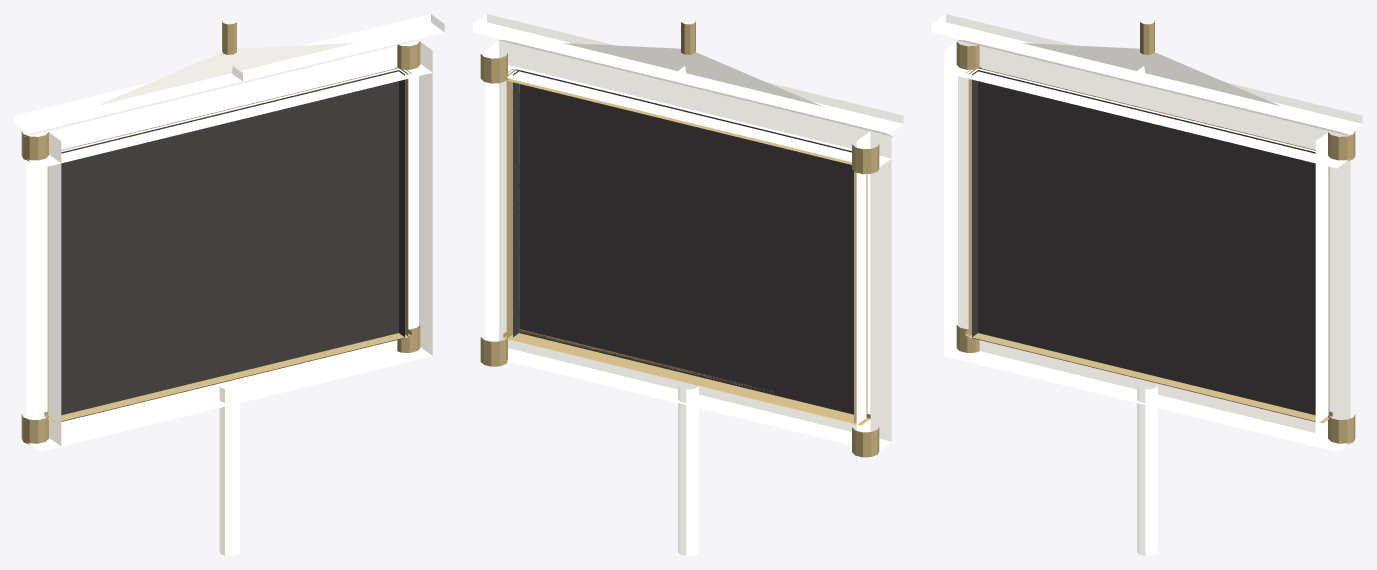
Rendered from board-palace.glb.
The picture shows the model from 3 angles, left to right: view 1: azimuth 30°, elevation 25°; view 2: azimuth 150°, elevation 25°; view 3: azimuth 330°, elevation 25°; orthographic projection.
Parts seen in each view (by area): view 1: plate, frame, brass; view 2: plate, frame, brass; view 3: plate, frame, brass.
Boxes of the visible parts, x1=… form: plate: x1=61, y1=70, x2=404, y2=421; frame: x1=14, y1=14, x2=444, y2=555; brass: x1=21, y1=21, x2=420, y2=444; plate: x1=513, y1=70, x2=853, y2=414; frame: x1=473, y1=14, x2=903, y2=555; brass: x1=480, y1=21, x2=879, y2=457; plate: x1=972, y1=70, x2=1315, y2=421; frame: x1=932, y1=14, x2=1362, y2=555; brass: x1=956, y1=21, x2=1355, y2=444.
Size of the model in its own units: 3.14 by 3.82 by 0.2856.
